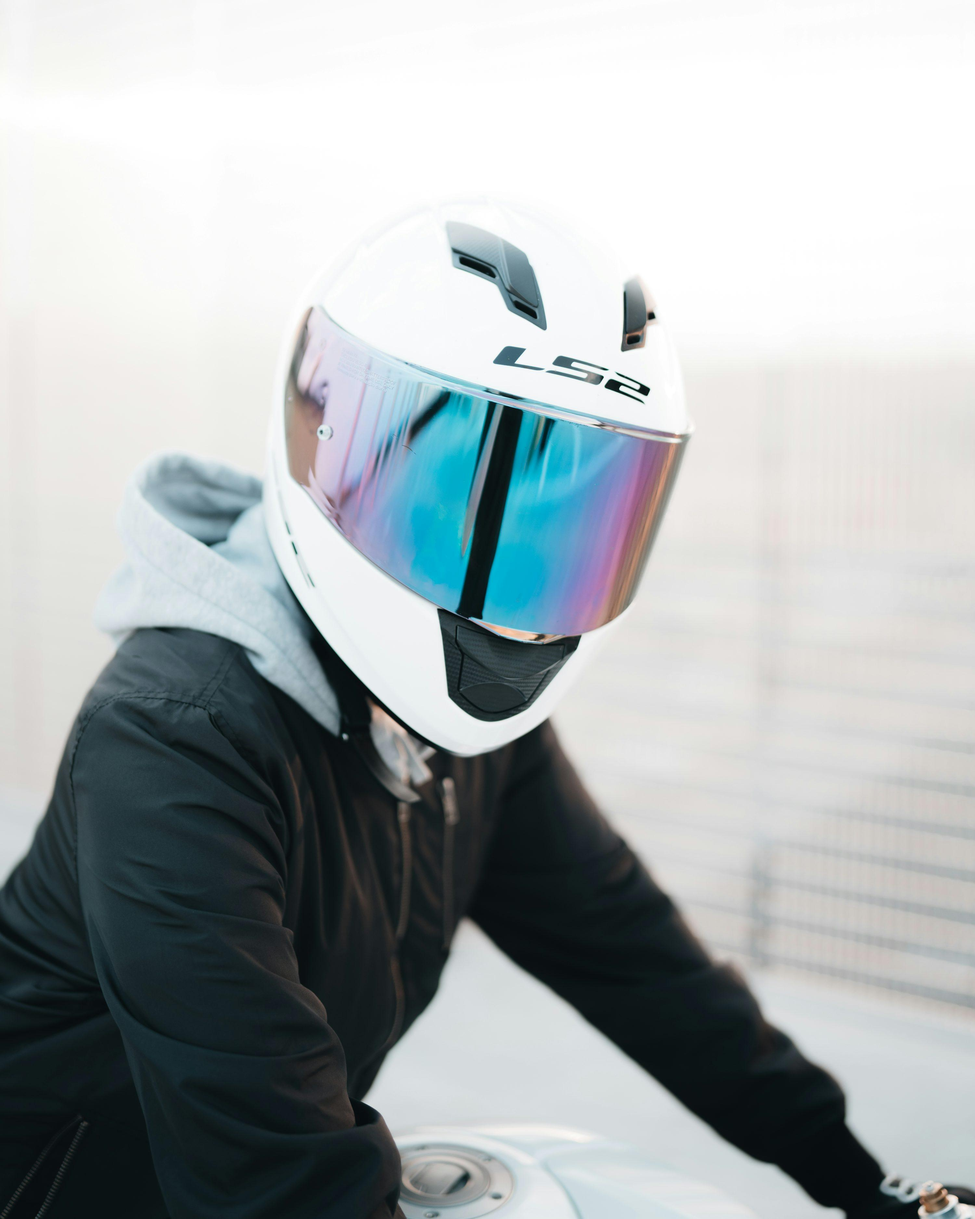Helmet: (264, 196, 691, 755)
